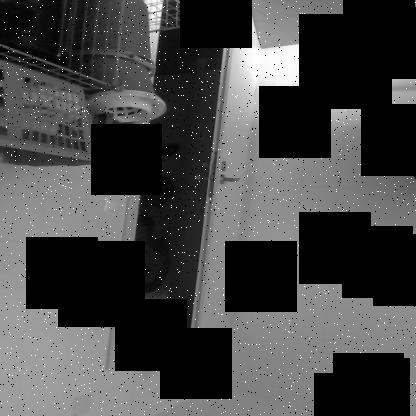Porte: (104, 1, 264, 373)
